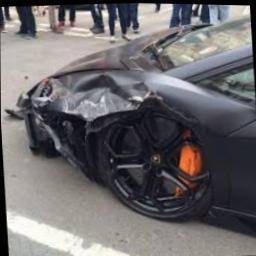Fender: (35, 72, 243, 172)
Light: (29, 79, 70, 101)
